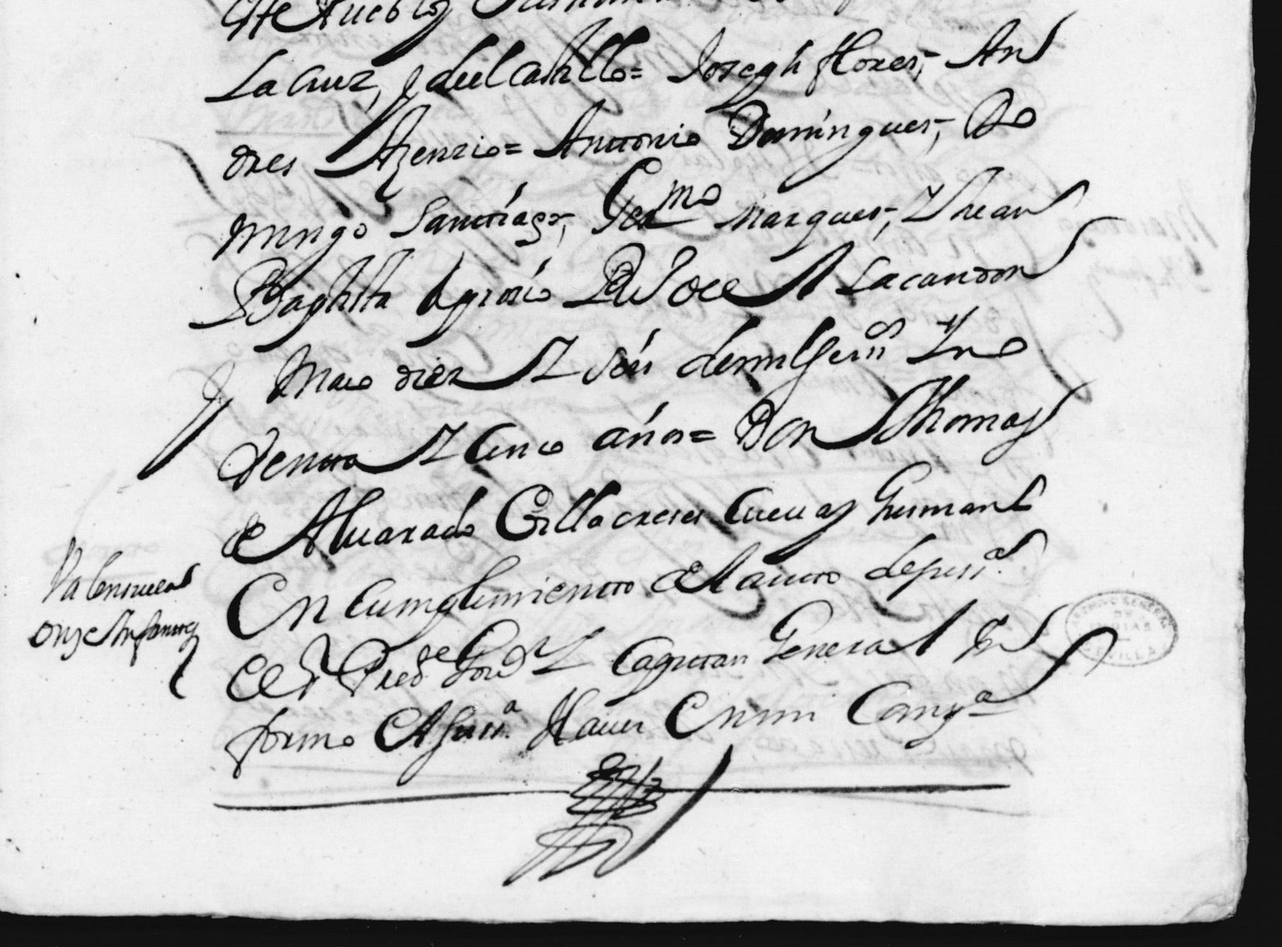lacandon: (835, 216, 1125, 295)
